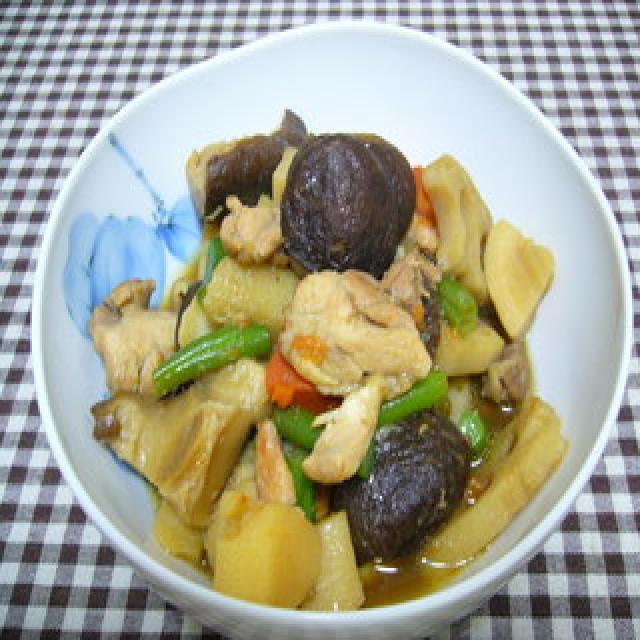鸡肉料理 含炸鸡: (108, 75, 560, 608)
